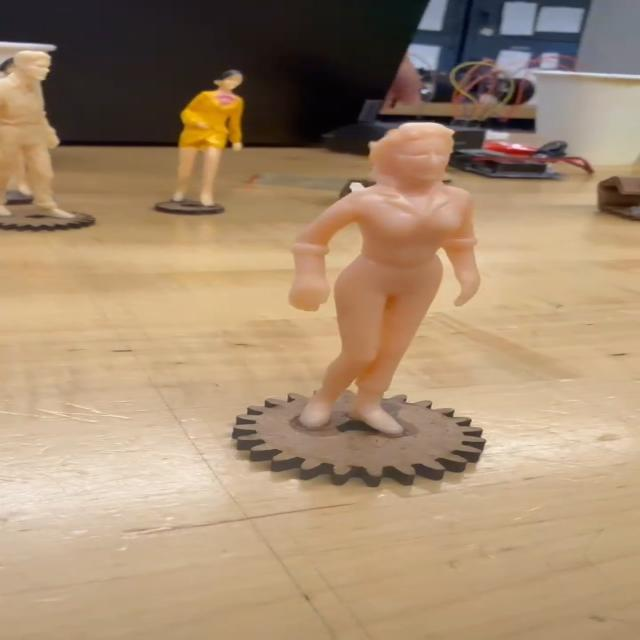Unauthorized: (287, 120, 488, 434)
